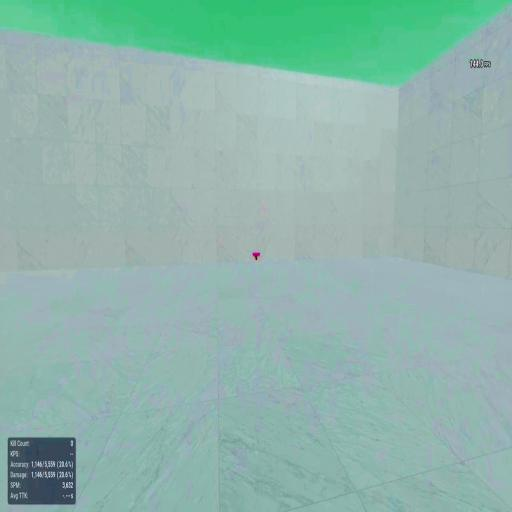Crosshair: (255, 254, 257, 258)
Target: (255, 256, 257, 261)
